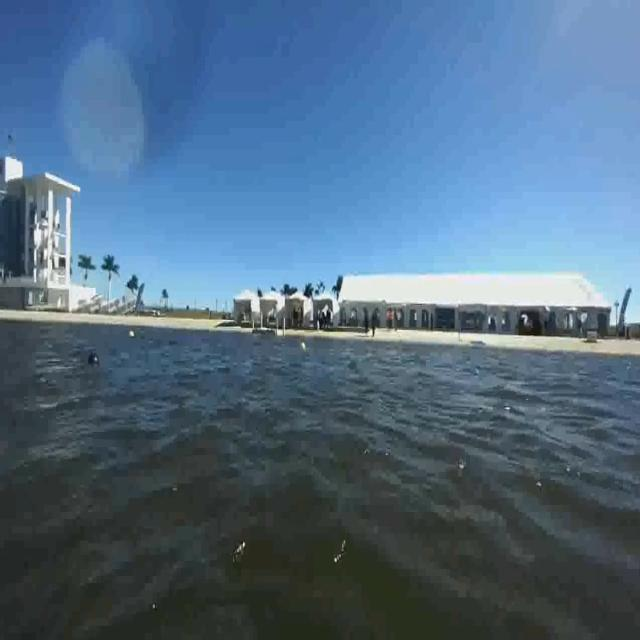black-buoy: (87, 352, 100, 366)
